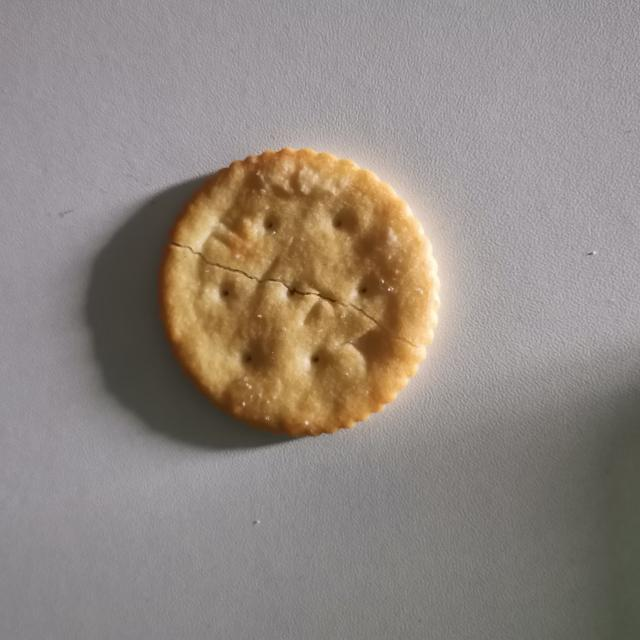Fracture: (166, 223, 437, 363)
